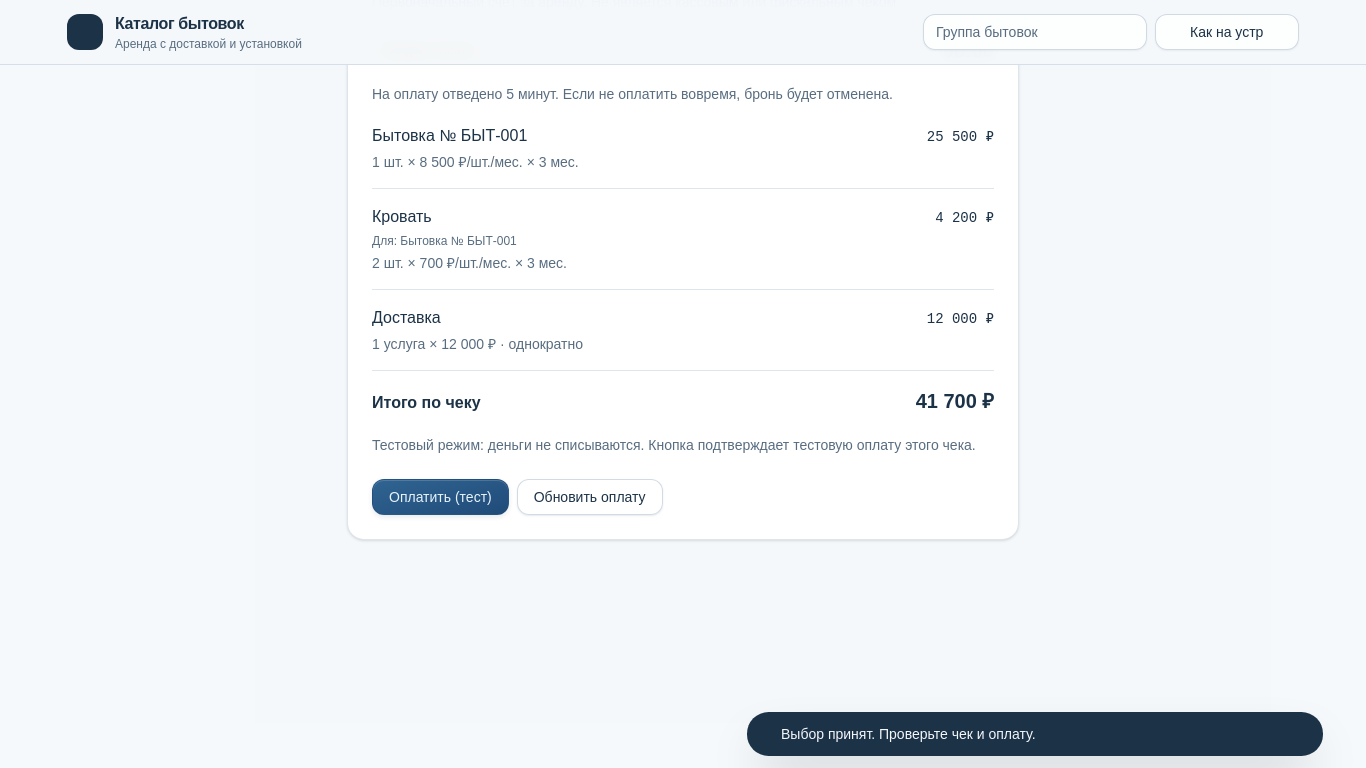
Test: public client presentation › restores a booked presentation's bill from server identity and pays only after an explicit click
The width and height of the screenshot is (1366, 768).
(page scrolled)
Expected: the text "05:00" is shown, [943,36,994,64]
Expected: the text "Оплачено — тестовый режим" is not shown
Click the button "Оплатить (тест)" at (440, 497), box [372,479,509,515]
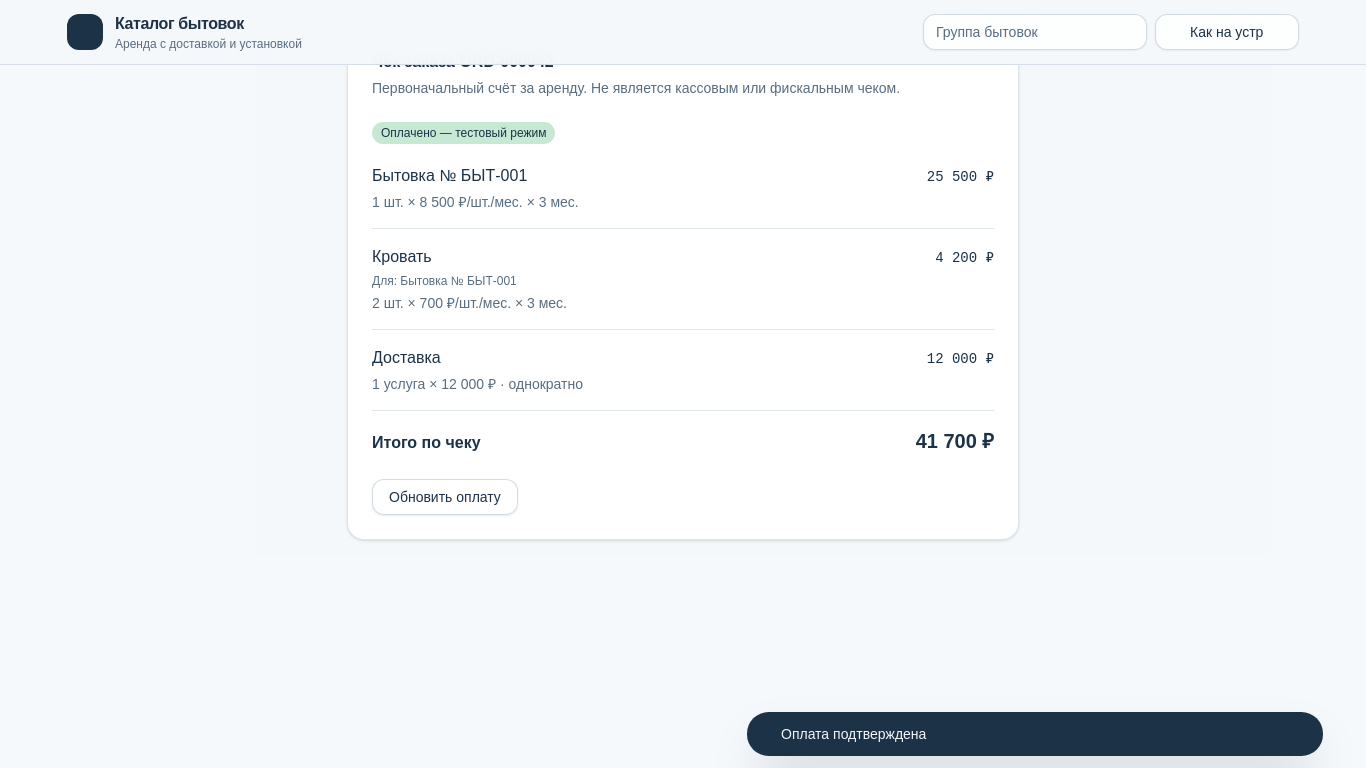
Now the text "Оплачено — тестовый режим" is shown, box [372,122,556,144]
